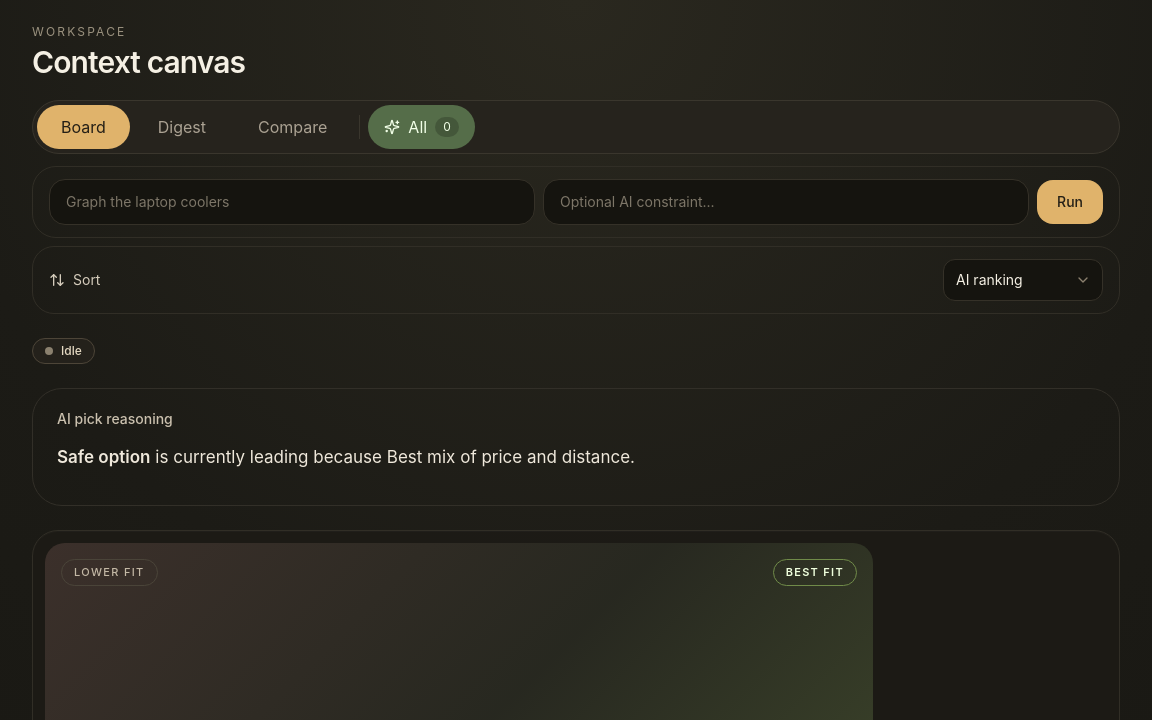
Scenario: GraphCanvas housing board › tints compare columns red when a node violates the constraint
Click the button "compare" at {"x": 293, "y": 127}, box [234,105,351,149]
(page scrolled)
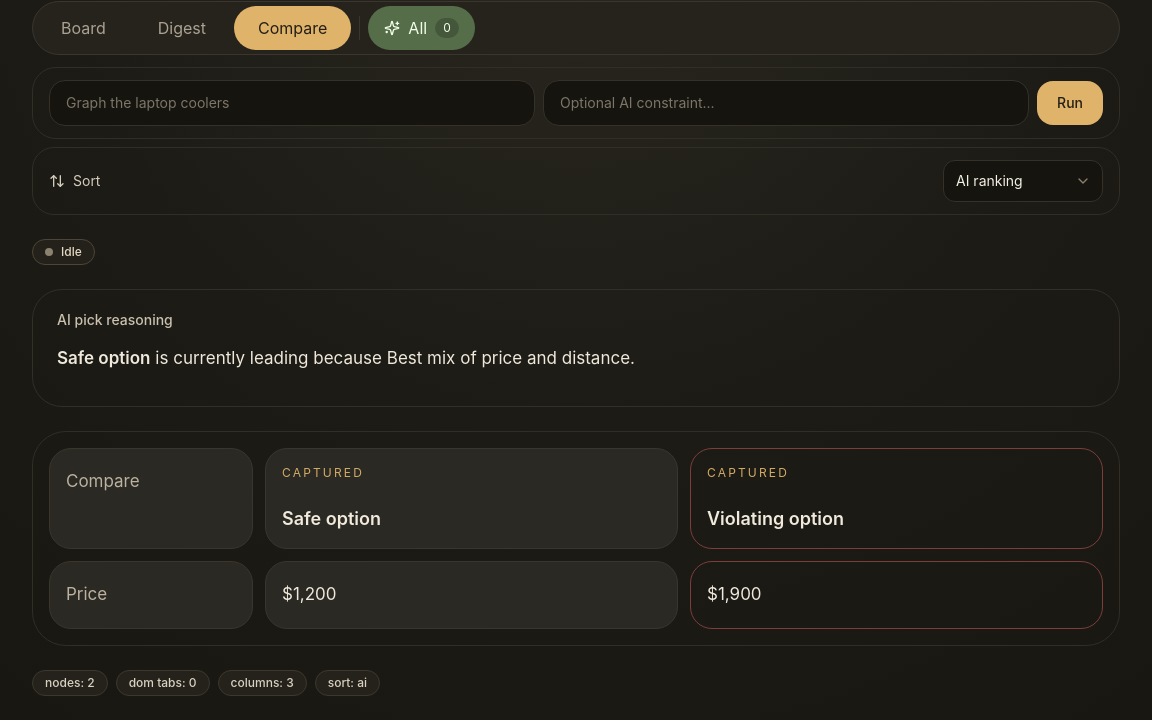
Expected: the text "Compare" is shown, [66,471,140,491]
